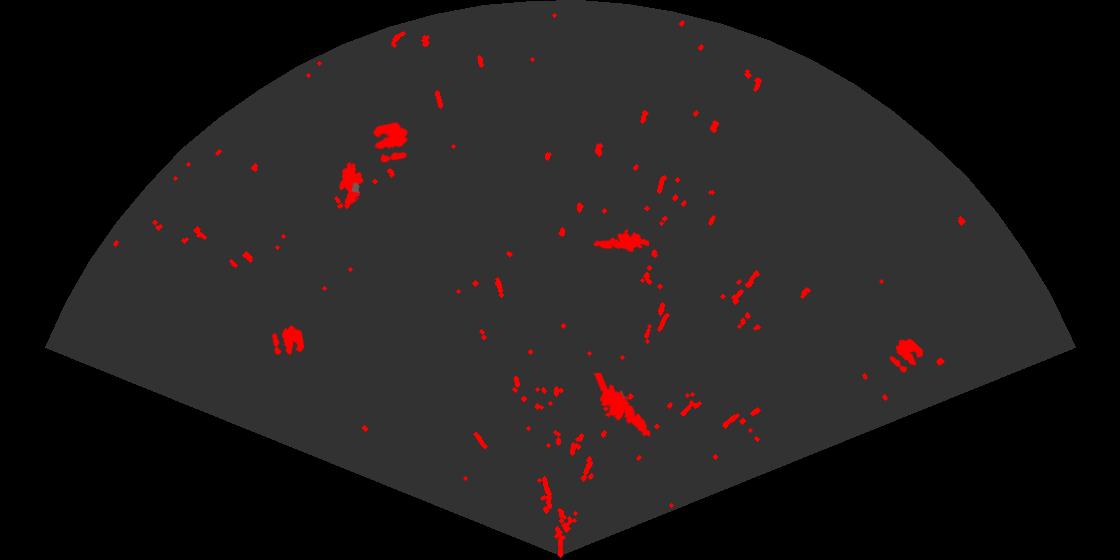AUV: (338, 160, 365, 211)
ball: (371, 120, 410, 165), (888, 337, 925, 374), (271, 324, 306, 357)
frogman: (592, 373, 653, 438), (591, 228, 649, 254)
